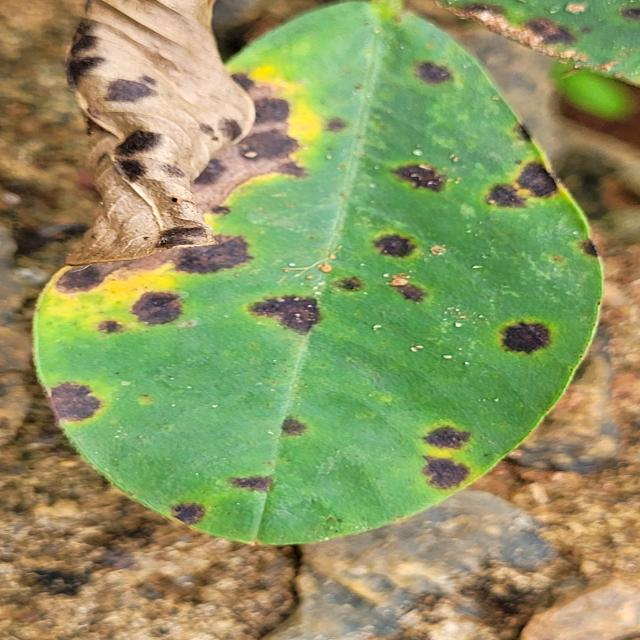Ground nut_tikka leaf spot: (40, 4, 640, 544)
